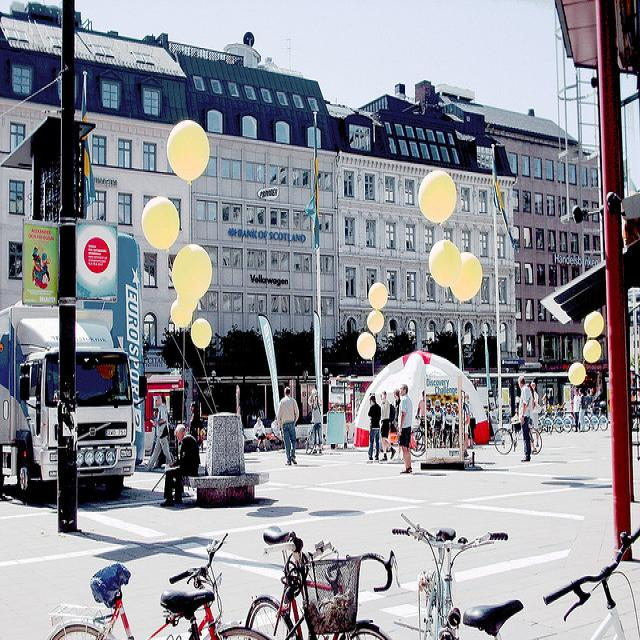Vehicle: (0, 307, 148, 505)
